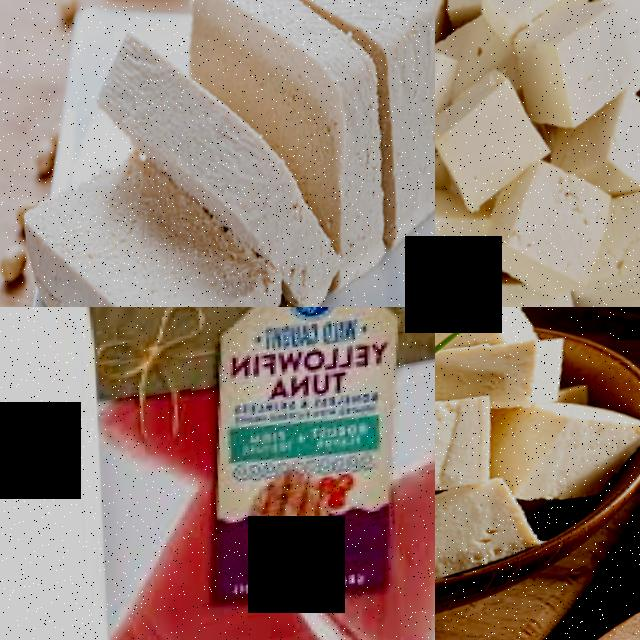tofu: (177, 0, 405, 141), (15, 151, 195, 307), (355, 0, 435, 261), (435, 67, 553, 222), (518, 0, 640, 142), (496, 181, 621, 307), (516, 398, 633, 513), (435, 478, 543, 599), (435, 392, 503, 513), (490, 337, 573, 418), (435, 201, 492, 307), (474, 0, 581, 39), (608, 194, 640, 307)
tuna: (109, 595, 342, 640), (378, 460, 435, 640)
